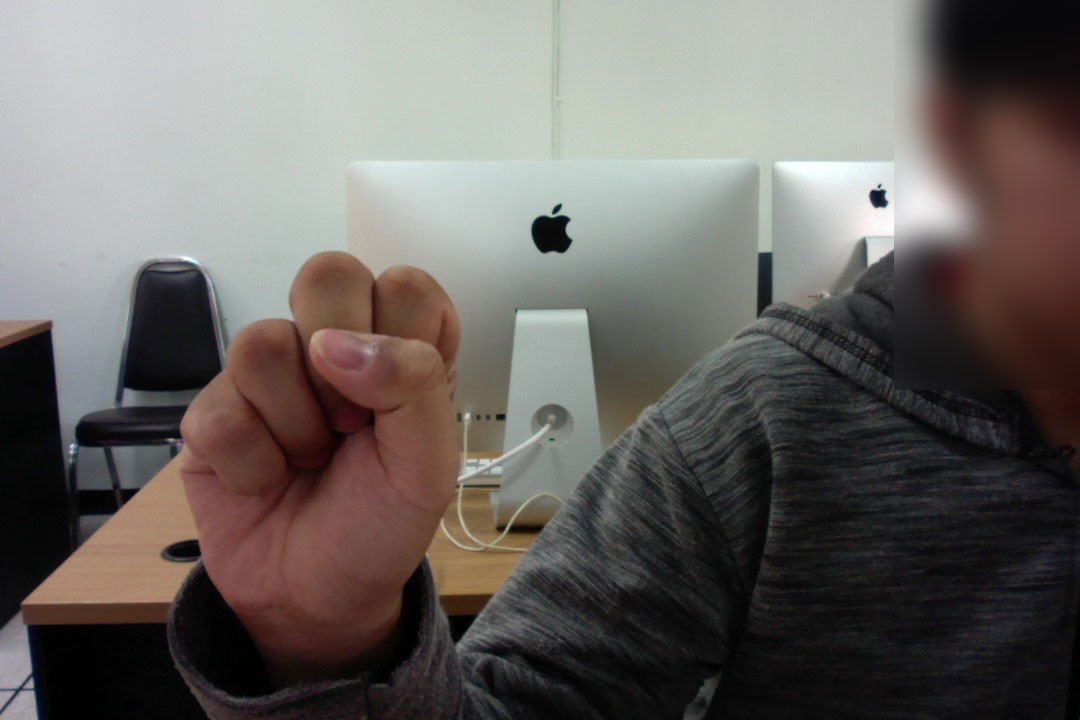sor: (170, 241, 470, 636)
